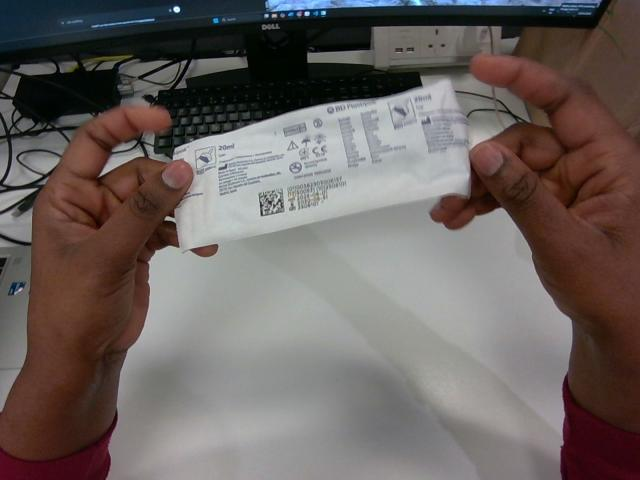syringe: (173, 80, 469, 249)
